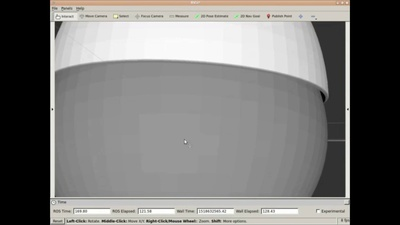mira_robot: (56, 21, 329, 195)
